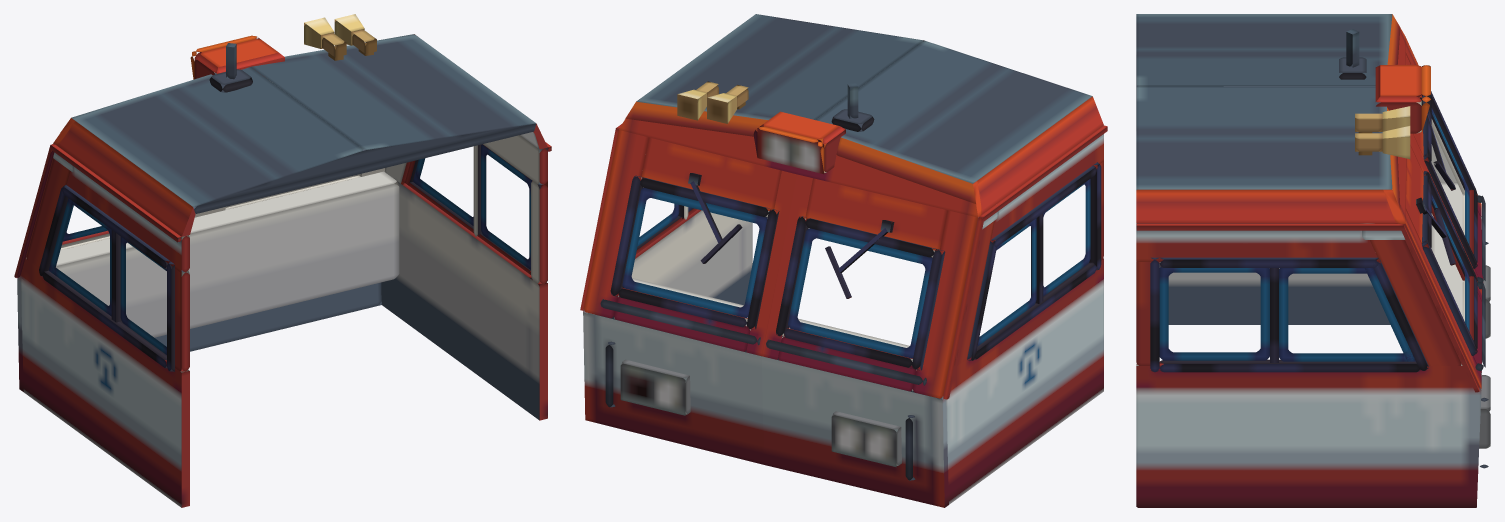
File: jy290_head_2.obj
3 renders of one model, left to right at view 1: azimuth 30°, elevation 25°; view 2: azimuth 150°, elevation 25°; view 3: azimuth 270°, elevation 25°, orthographic. The views are drawn at different scales.
Visible parts, largest first — view 1: cube_selection_selection_selection_selection_selection_selection; view 2: cube_selection_selection_selection_selection_selection_selection; view 3: cube_selection_selection_selection_selection_selection_selection.
Part boxes in pixels (x1,y1,x2,y2): cube_selection_selection_selection_selection_selection_selection: (14, 14, 551, 507); cube_selection_selection_selection_selection_selection_selection: (580, 14, 1107, 507); cube_selection_selection_selection_selection_selection_selection: (1136, 14, 1490, 507).
Bounding box in the file's own units: 3.07 × 2.75 × 2.41.
